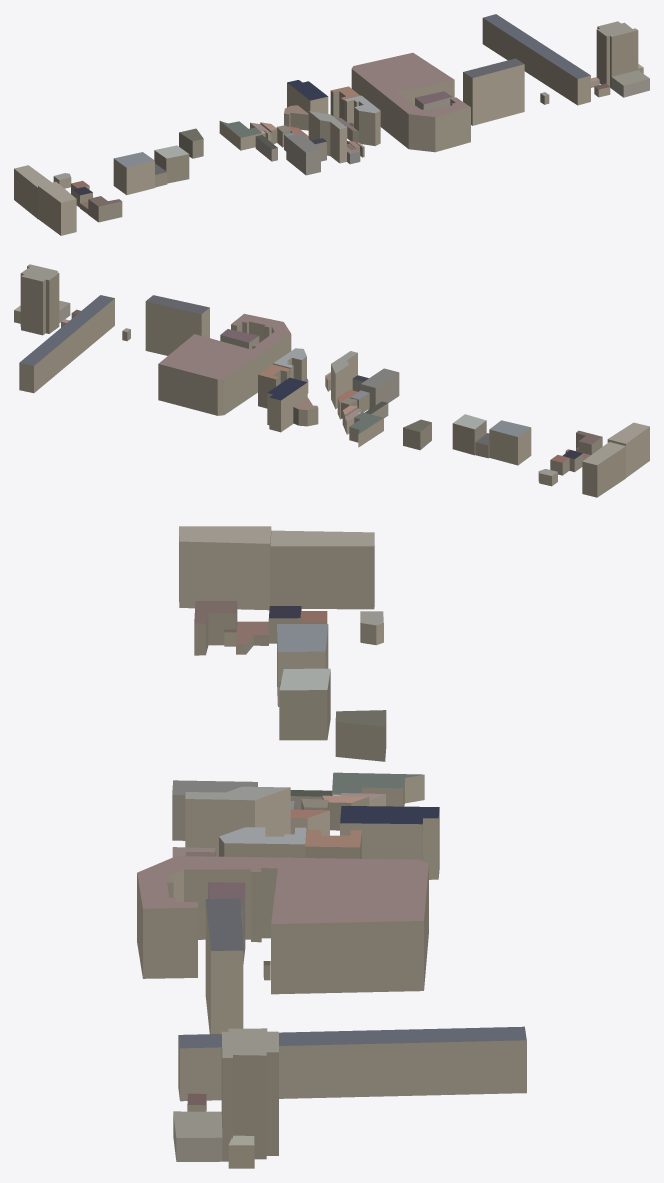
3 views of the same model, one above another, from view 1: azimuth 30°, elevation 25°; view 2: azimuth 150°, elevation 25°; view 3: azimuth 270°, elevation 25° (orthographic). The views are drawn at different scales.
Parts seen in each view (by area): view 1: tuile; view 2: tuile; view 3: tuile.
Part boxes in pixels (bbox=[...]): tuile: bbox=[14, 14, 649, 235]; tuile: bbox=[14, 264, 649, 497]; tuile: bbox=[137, 526, 526, 1168].
Bounding box in the file's own units: 424 × 37.16 × 120.
